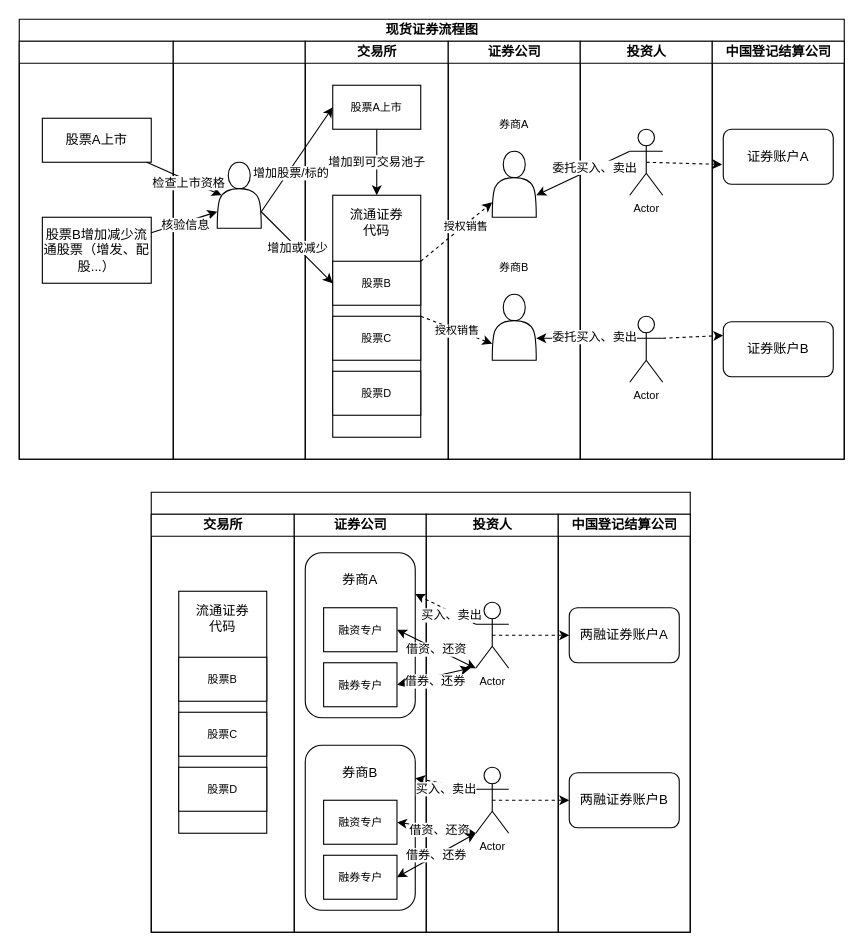
Image size: 864x952. Some labels were removed from this diagram. Each missing label, with the box of its shape:
两融证券流向图: (150, 491, 690, 932)
发行人: (18, 40, 173, 459)
证监会: (172, 40, 305, 459)
